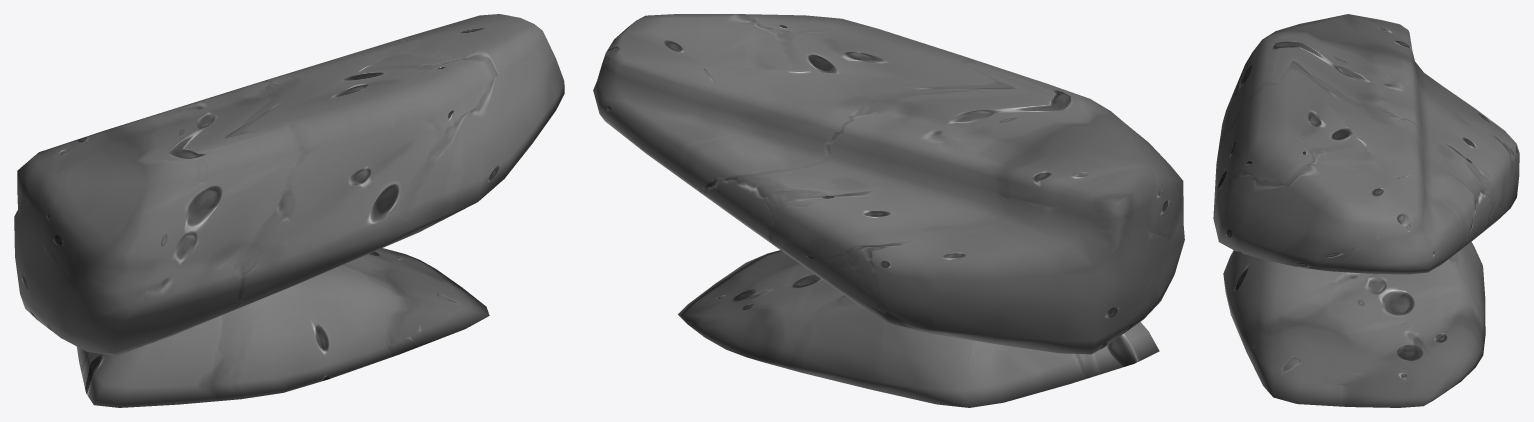
File: SM_ENV_stone_10.fbx
3 views of the same model, side by side, from view 1: azimuth 30°, elevation 25°; view 2: azimuth 150°, elevation 25°; view 3: azimuth 270°, elevation 25° (orthographic). The views are drawn at different scales.
Visible parts, largest first — view 1: SM_ENV_stone_10_LOD0; view 2: SM_ENV_stone_10_LOD0; view 3: SM_ENV_stone_10_LOD0.
Part boxes in pixels (x1,y1,x2,y2): SM_ENV_stone_10_LOD0: (14, 14, 564, 407); SM_ENV_stone_10_LOD0: (593, 14, 1184, 407); SM_ENV_stone_10_LOD0: (1213, 14, 1519, 407).
Size of what is drawn, in the model's own units: 515 by 241 by 279.
